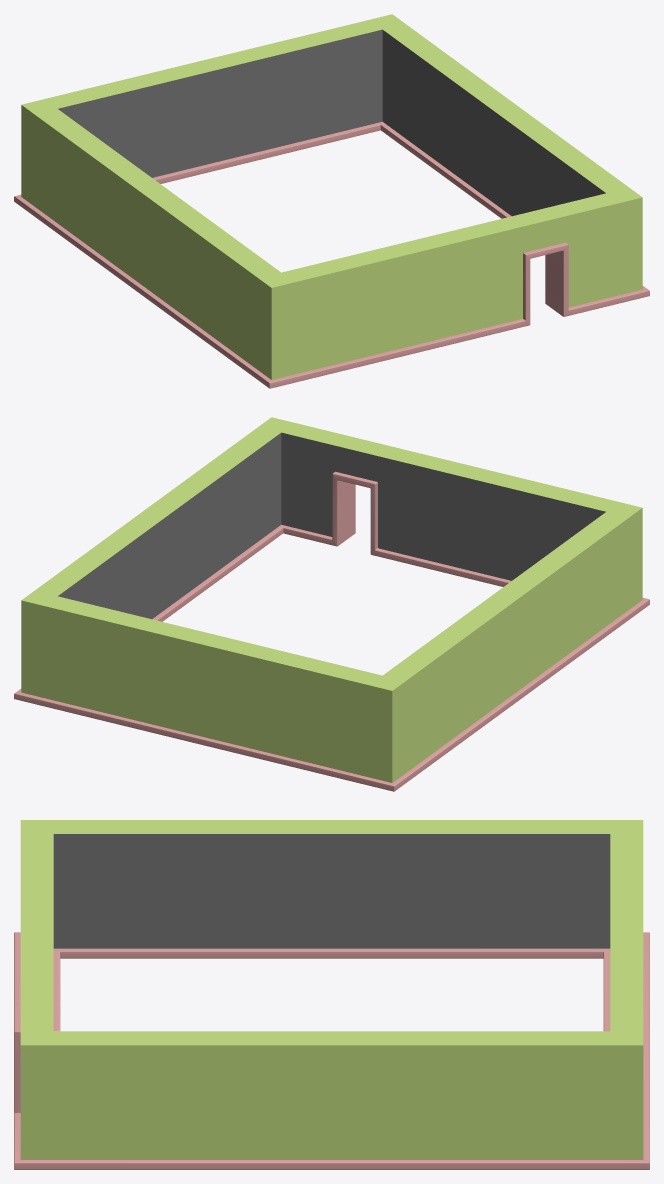
Rendered from BedroomWall_2.fbx.
3 renders of one model, top to bottom at view 1: azimuth 30°, elevation 25°; view 2: azimuth 150°, elevation 25°; view 3: azimuth 270°, elevation 25°, orthographic. The views are drawn at different scales.
Parts seen in each view (by area): view 1: polySurface7; view 2: polySurface7; view 3: polySurface7.
Boxes of the visible parts, bbox=[...] form: polySurface7: bbox=[14, 14, 649, 388]; polySurface7: bbox=[14, 417, 649, 791]; polySurface7: bbox=[14, 820, 649, 1169].
Bounding box in the file's own units: 16.48 × 4.06 × 19.19.
